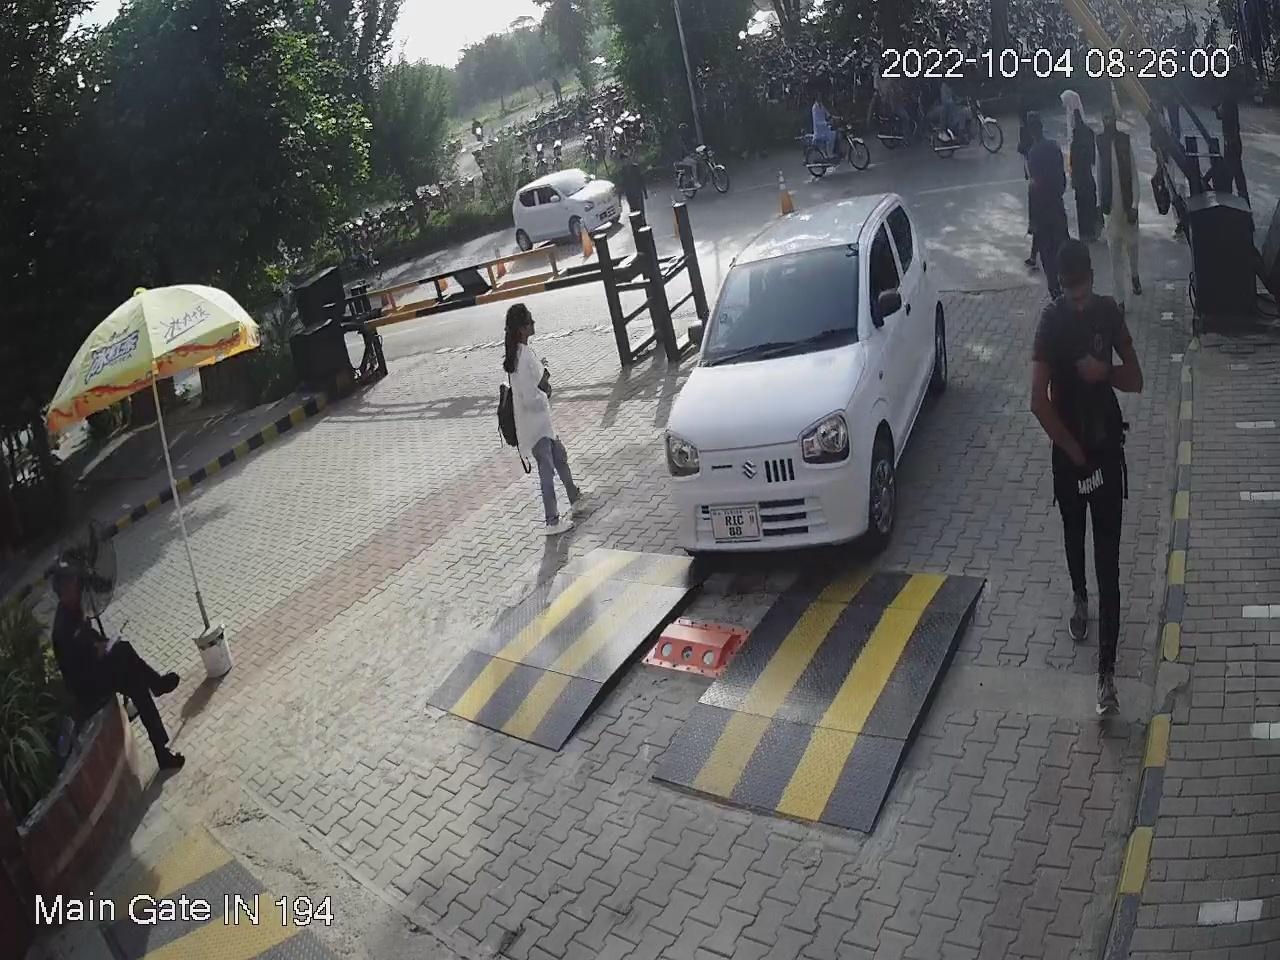windshield: (685, 235, 876, 365)
